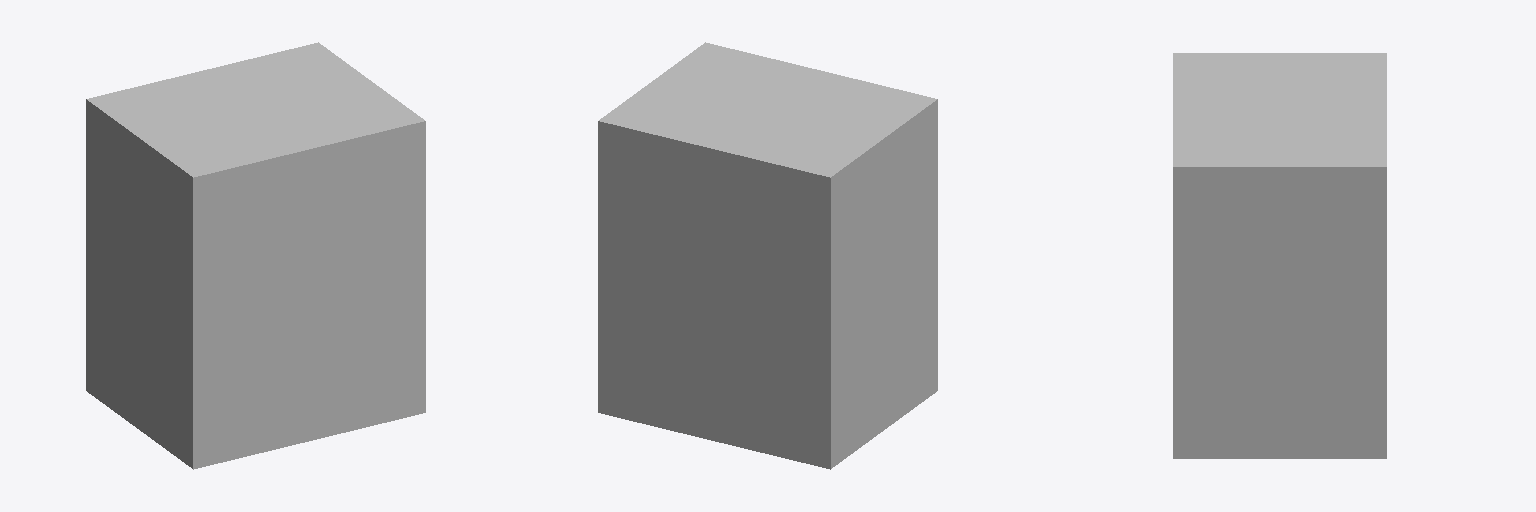
Rendered from heterogeneity.obj.
3 renders of one model, left to right at view 1: azimuth 30°, elevation 25°; view 2: azimuth 150°, elevation 25°; view 3: azimuth 270°, elevation 25°, orthographic.
Parts seen in each view (by area): view 1: ice_ice, air_air, bed_base; view 2: ice_ice, air_air, bed_base; view 3: ice_ice, air_air, bed_base.
Part boxes in pixels (left/top/right/bottom): ice_ice: left=86, top=101, right=425, bottom=469; air_air: left=86, top=42, right=425, bottom=195; bed_base: left=86, top=372, right=425, bottom=468; ice_ice: left=598, top=101, right=937, bottom=469; air_air: left=598, top=42, right=937, bottom=196; bed_base: left=598, top=372, right=937, bottom=468; ice_ice: left=1173, top=167, right=1386, bottom=458; air_air: left=1173, top=53, right=1386, bottom=185; bed_base: left=1173, top=439, right=1386, bottom=458.
Size of the model in its own units: 50 by 60 by 40.